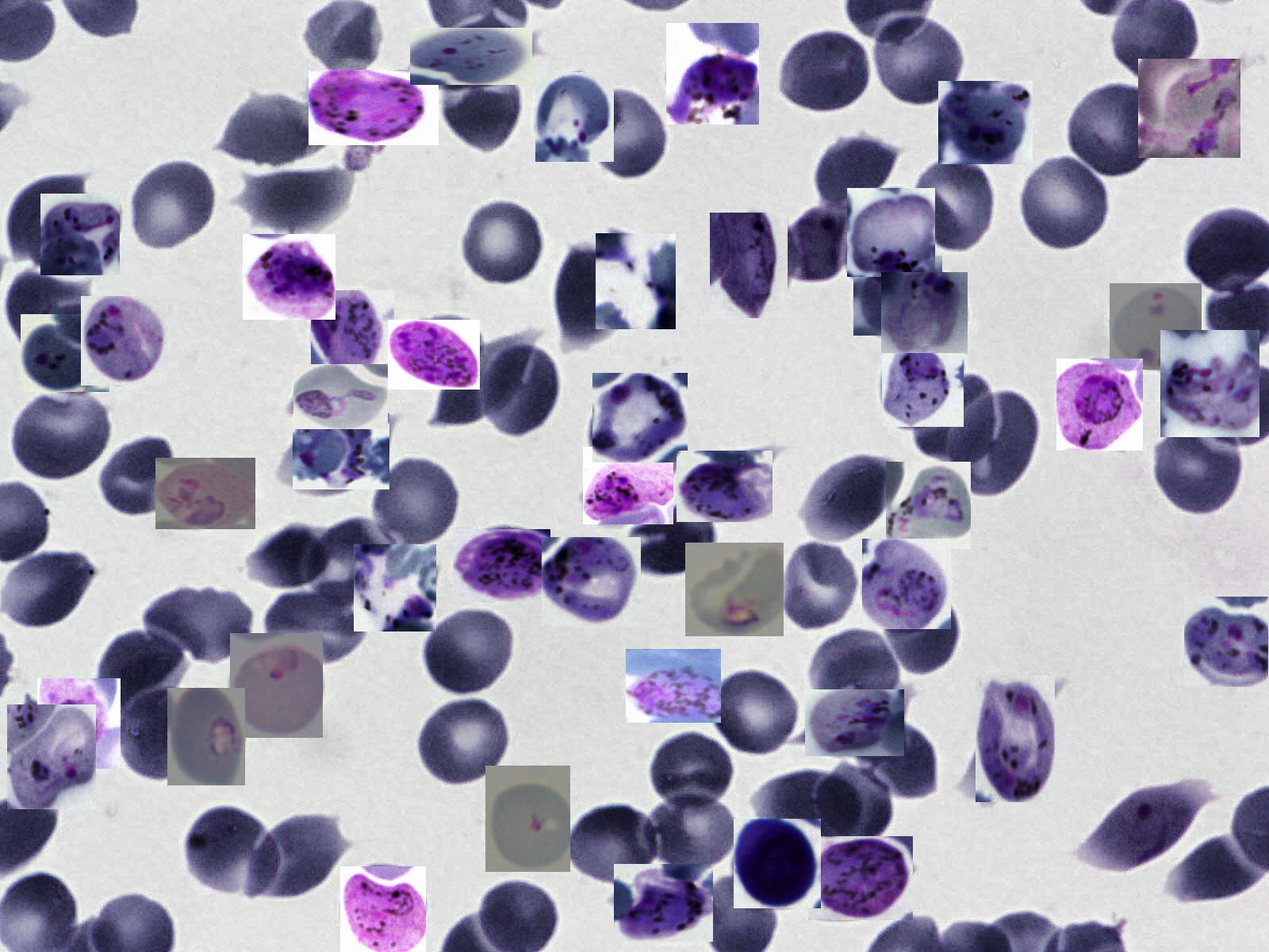Infected: (1088, 786, 1215, 870), (1160, 330, 1259, 437), (1138, 59, 1240, 158), (976, 676, 1055, 803), (230, 633, 323, 738), (309, 70, 439, 145), (666, 23, 759, 125), (8, 704, 96, 809), (685, 543, 784, 636), (485, 766, 570, 872), (542, 537, 641, 627), (808, 836, 913, 920), (592, 373, 688, 463), (711, 213, 788, 318), (862, 539, 951, 629), (1056, 359, 1143, 451), (1110, 283, 1202, 370), (243, 234, 335, 320), (938, 81, 1033, 164), (847, 188, 935, 277), (81, 296, 168, 386), (734, 819, 821, 908), (614, 864, 713, 942), (596, 233, 676, 329), (37, 678, 121, 769), (167, 688, 245, 785), (1184, 597, 1268, 687), (340, 866, 426, 952), (886, 462, 971, 549), (293, 413, 389, 489), (853, 255, 942, 336), (354, 544, 436, 631), (881, 272, 968, 354), (535, 72, 614, 162), (155, 458, 255, 529), (626, 650, 721, 724), (453, 529, 550, 601), (311, 290, 394, 374), (410, 28, 532, 85), (583, 447, 673, 524), (21, 314, 109, 392), (677, 451, 773, 522), (805, 689, 904, 756), (388, 320, 480, 390), (41, 194, 120, 275), (293, 364, 388, 429), (882, 354, 964, 427), (776, 208, 848, 284)
Uninfected: (7, 389, 117, 483), (176, 805, 281, 900), (1072, 79, 1172, 178), (1017, 154, 1114, 255), (239, 161, 361, 241), (214, 90, 337, 169), (249, 809, 352, 902), (412, 694, 512, 789), (803, 447, 901, 543), (868, 13, 967, 108), (807, 624, 906, 717), (0, 540, 94, 637), (372, 455, 465, 553), (704, 666, 804, 757), (550, 239, 630, 351), (955, 388, 1040, 492), (0, 266, 92, 362), (264, 583, 373, 664), (149, 584, 255, 667), (127, 159, 218, 255), (749, 771, 861, 849), (113, 691, 205, 785), (904, 374, 992, 472), (581, 88, 669, 185), (305, 519, 399, 608), (780, 29, 875, 117), (474, 335, 555, 437), (457, 197, 547, 287), (1155, 423, 1246, 512), (566, 802, 659, 889), (436, 67, 527, 155), (776, 543, 858, 638), (918, 156, 995, 255), (882, 585, 962, 680), (813, 132, 903, 213), (96, 438, 182, 522), (425, 612, 512, 694), (6, 173, 88, 256), (100, 632, 186, 710), (650, 729, 734, 808), (646, 797, 735, 869), (855, 724, 936, 796), (816, 766, 894, 839), (250, 527, 332, 591), (631, 511, 713, 574), (438, 342, 500, 422)
